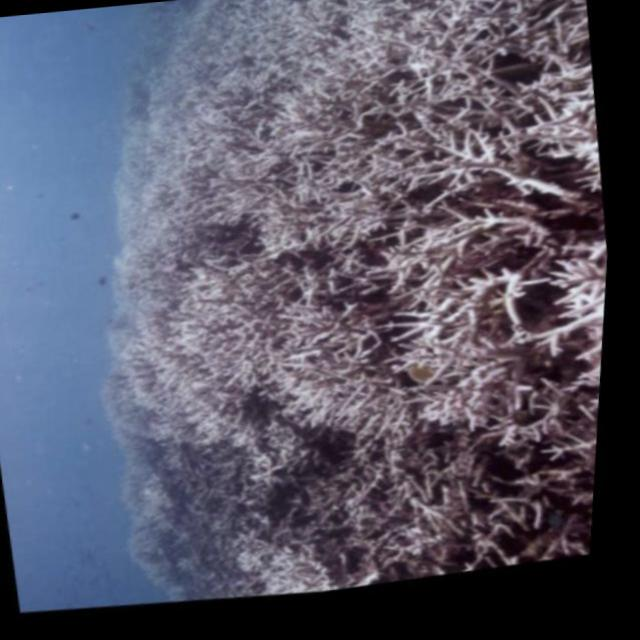Dead Coral: (49, 0, 640, 637)
